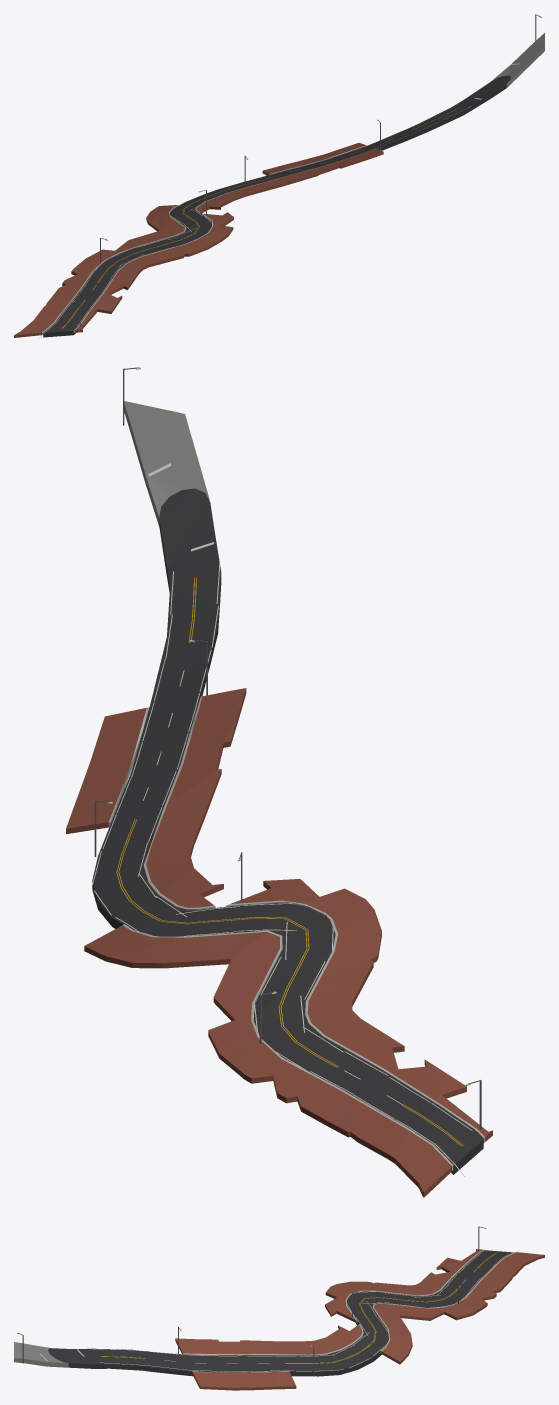
3 renders of one model, top to bottom at view 1: azimuth 90°, elevation 25°; view 2: azimuth 150°, elevation 25°; view 3: azimuth 270°, elevation 25°, orthographic. The views are drawn at different scales.
Size of the model in its own units: 118 by 32.78 by 128.
